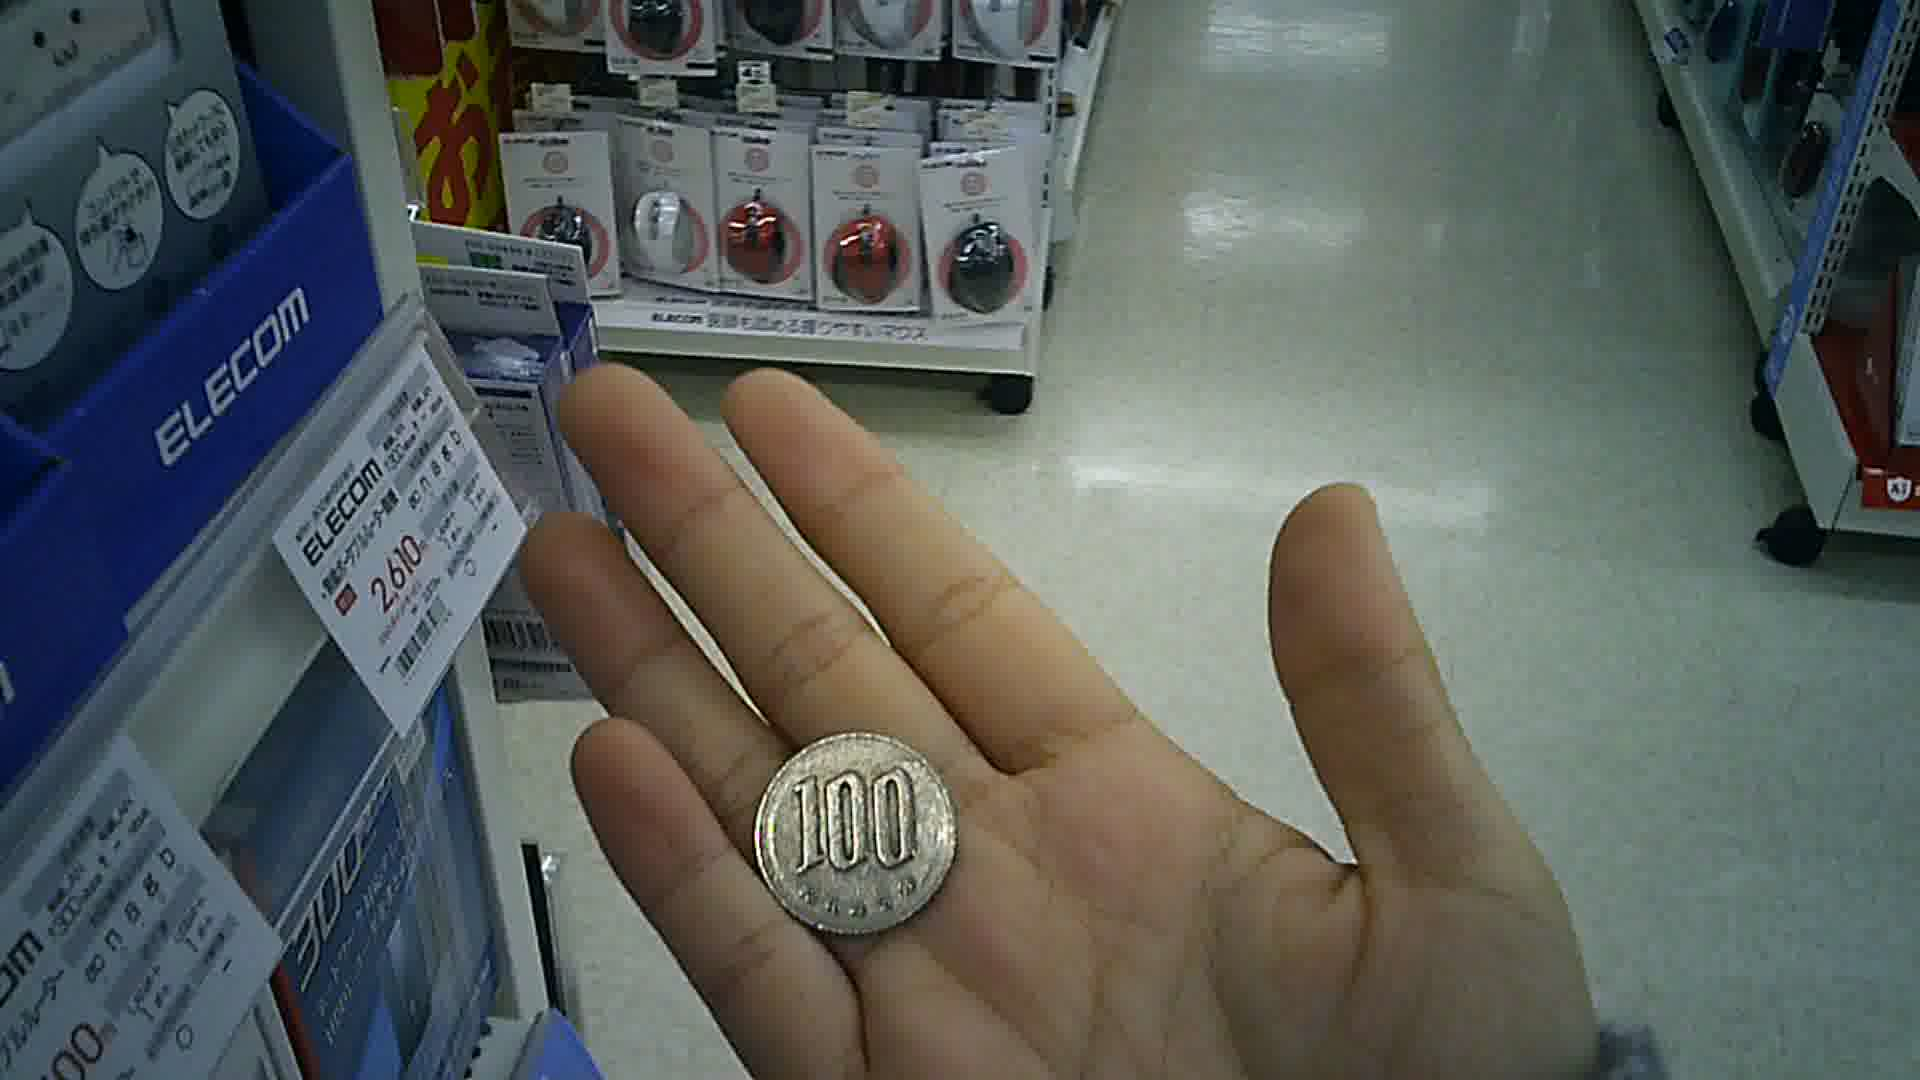100 Yen: (752, 721, 960, 942)
